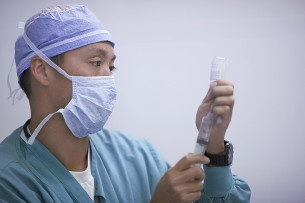Mask: (52, 46, 137, 132)
